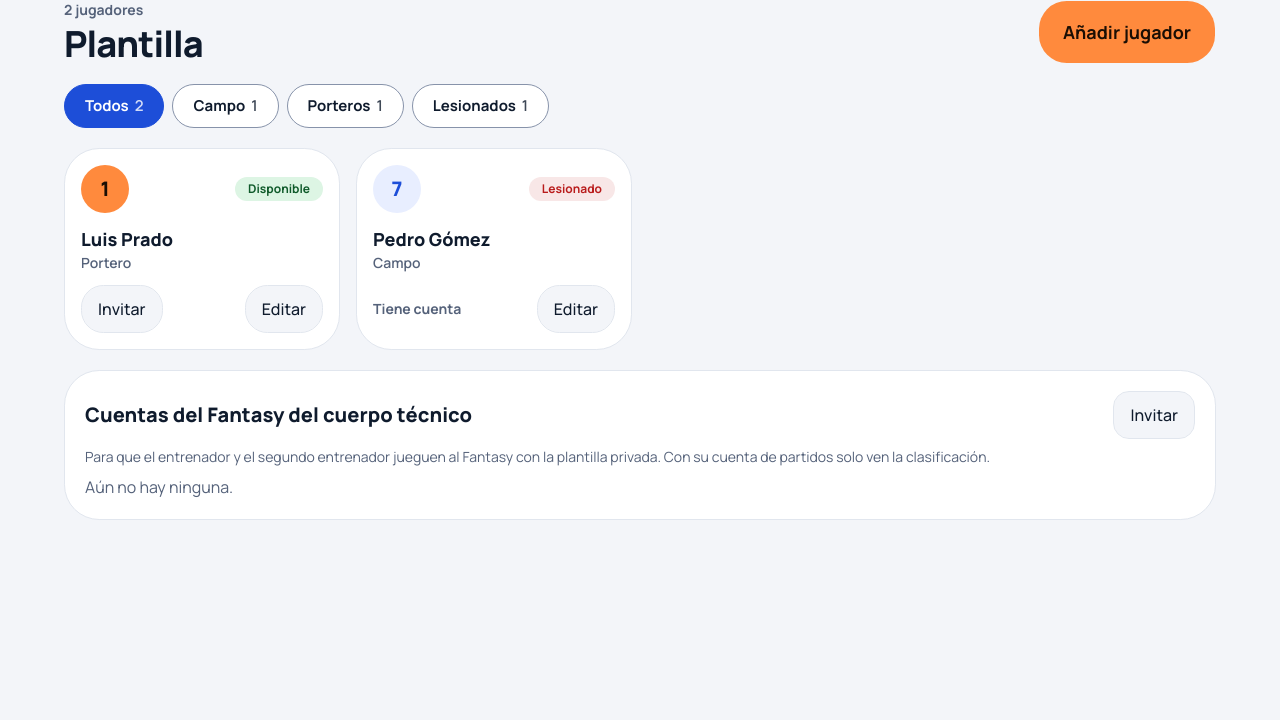
Test case: PlantillaPage › el entrenador añade un jugador
Expected: the text "Luis Prado" is shown, [81,227,173,251]
Click the button "Añadir jugador". click: x=1127, y=32
box: [1038,0,1216,64]
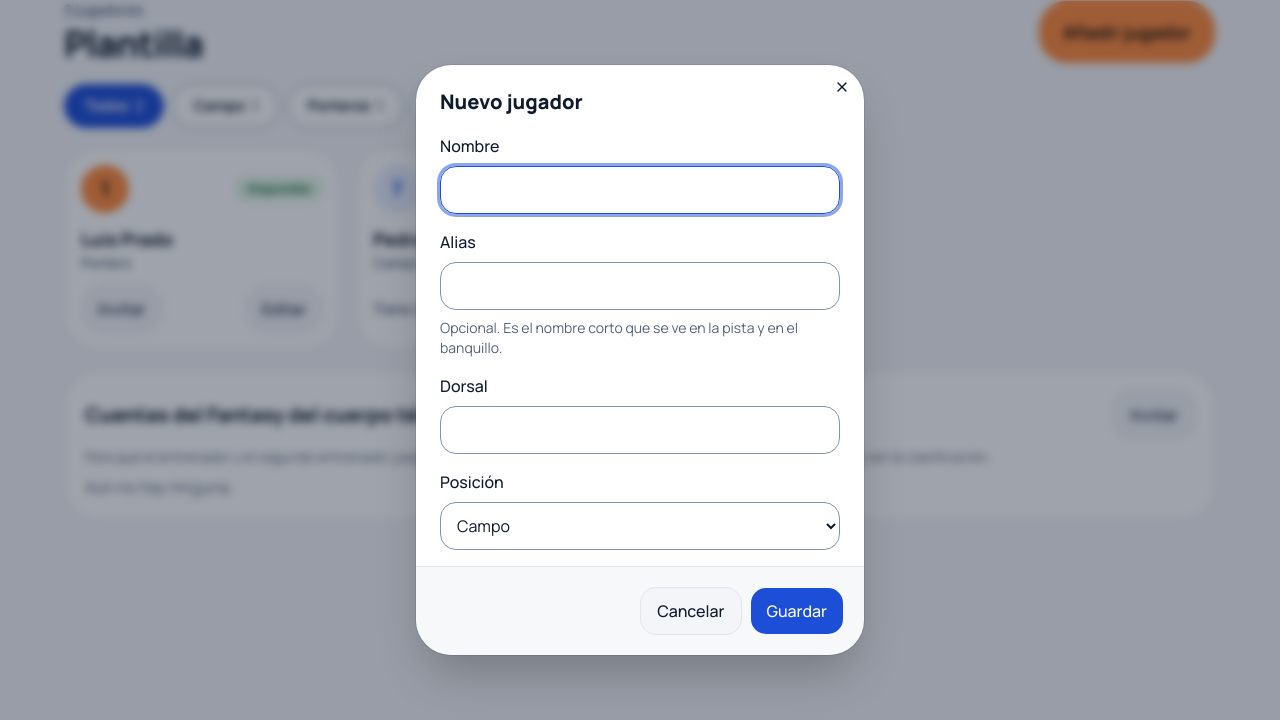
Type "Ana López" into the field labelled "Nombre". click: x=640, y=190
box: [440,166,840,214]
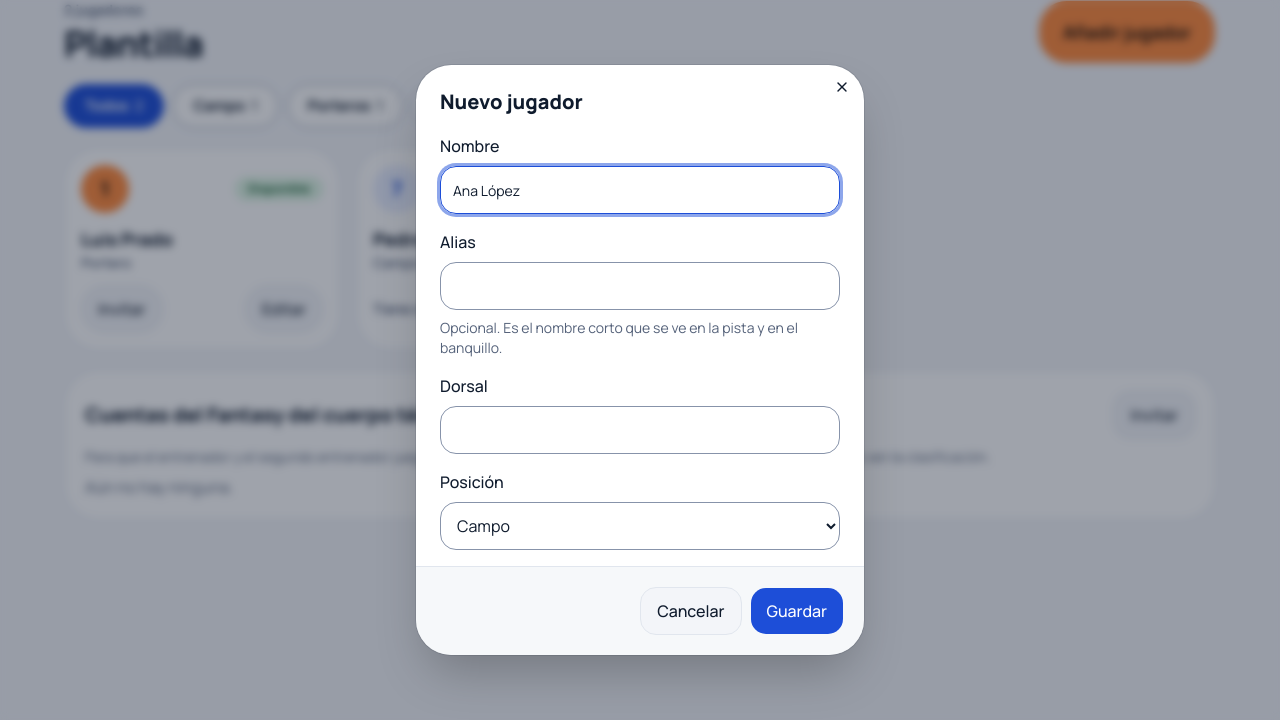
Type "10" into the field labelled "Dorsal". click: x=640, y=430
box: [440,406,840,454]
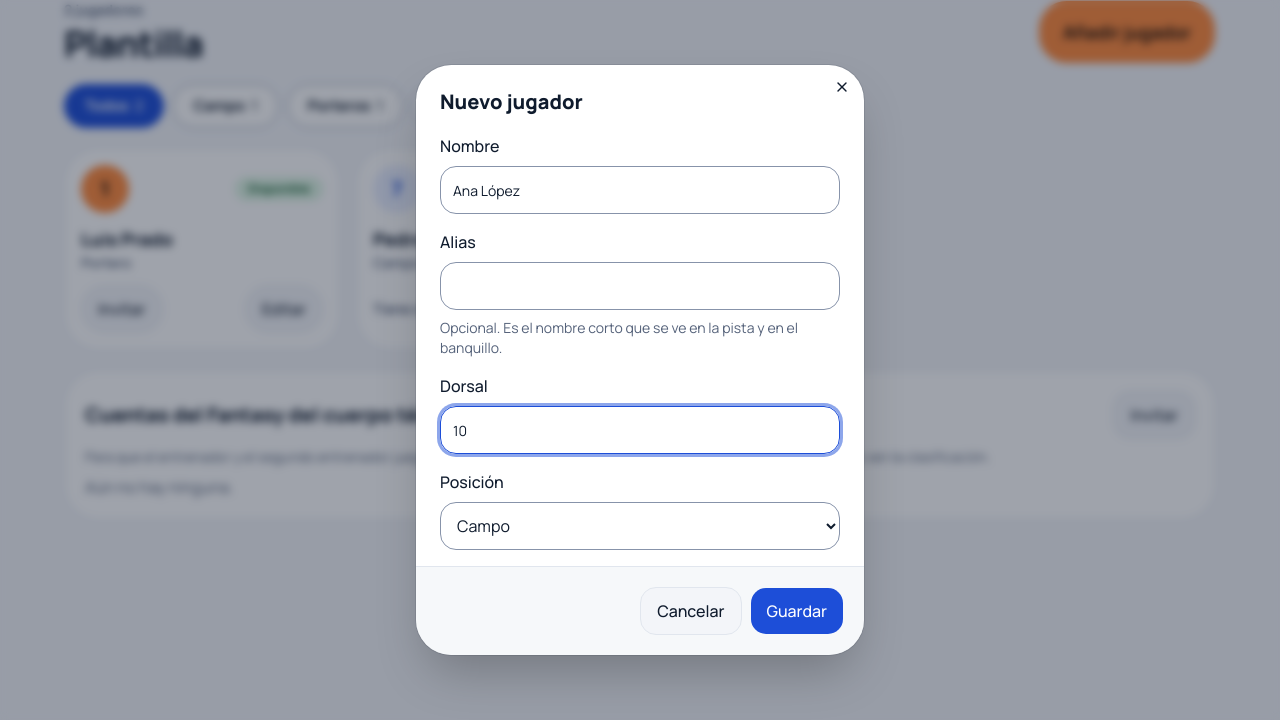
Select "Portero" in the dropdown labelled "Posición". click: x=640, y=526
box: [440,502,840,550]
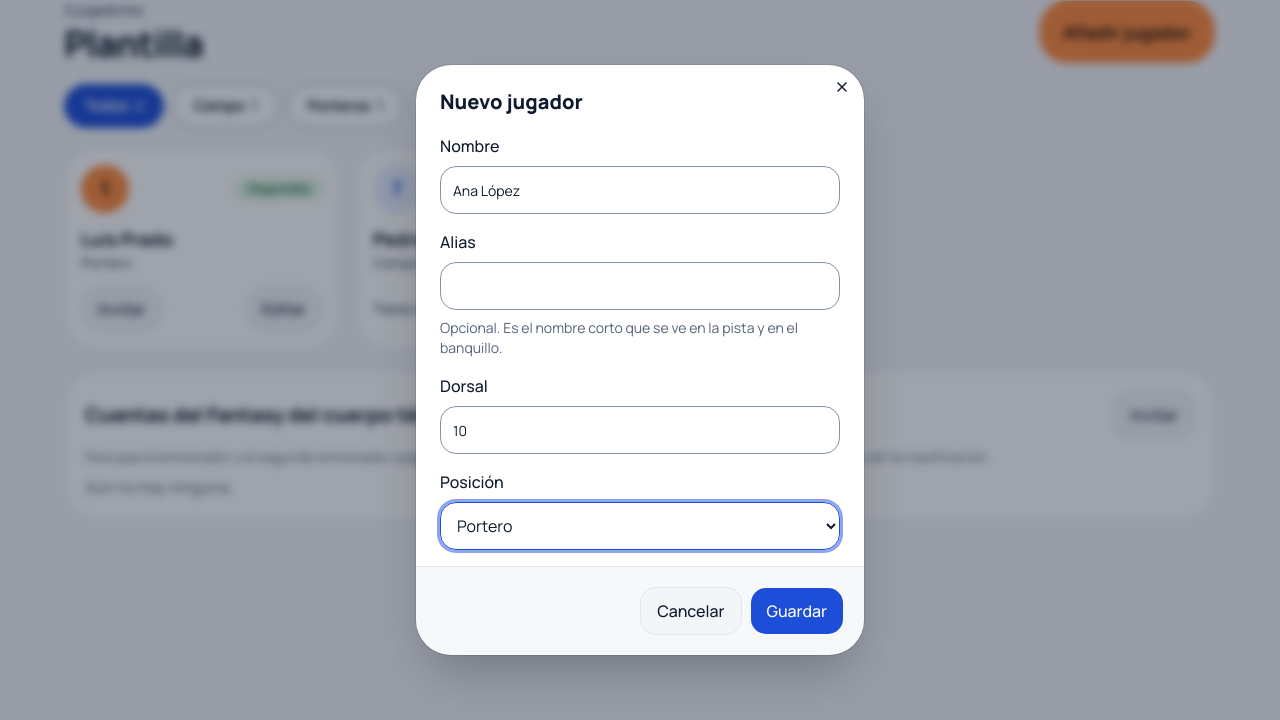
Click the button "Guardar". click: x=797, y=611
box: [750,587,844,635]
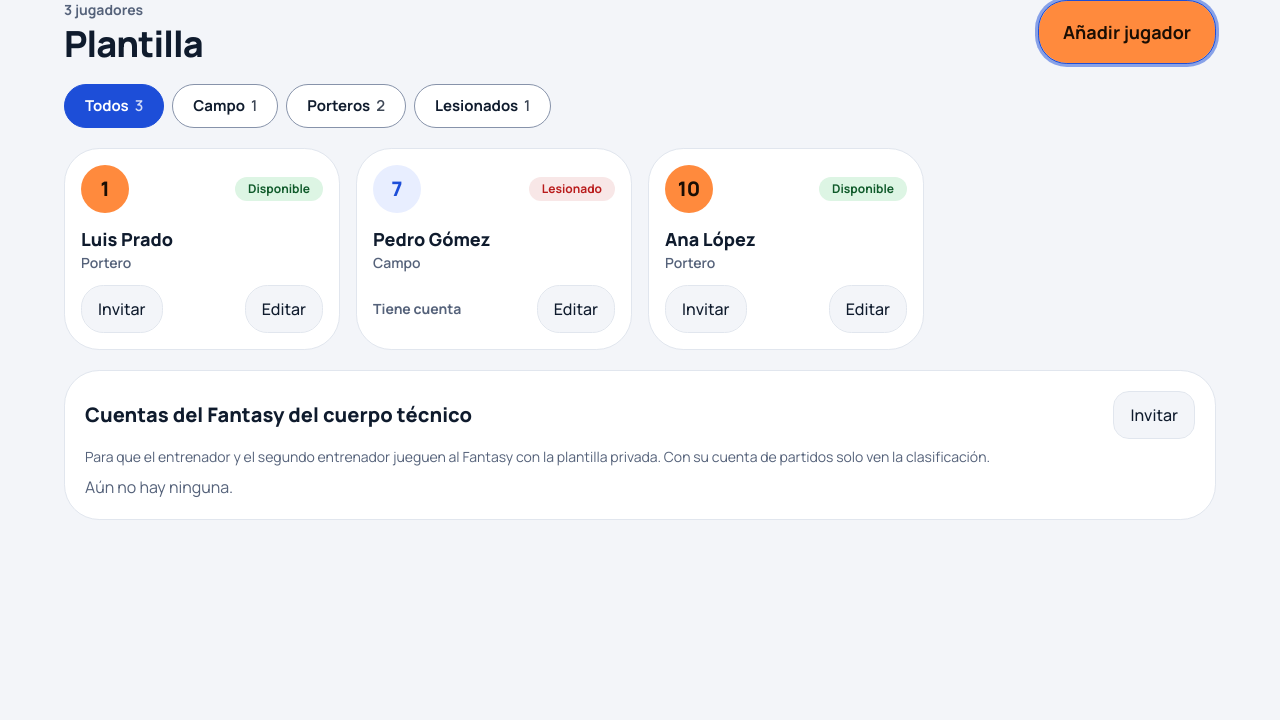
Result: the text "Ana López" is shown at [665,227,756,251]
Result: the dialog is gone
